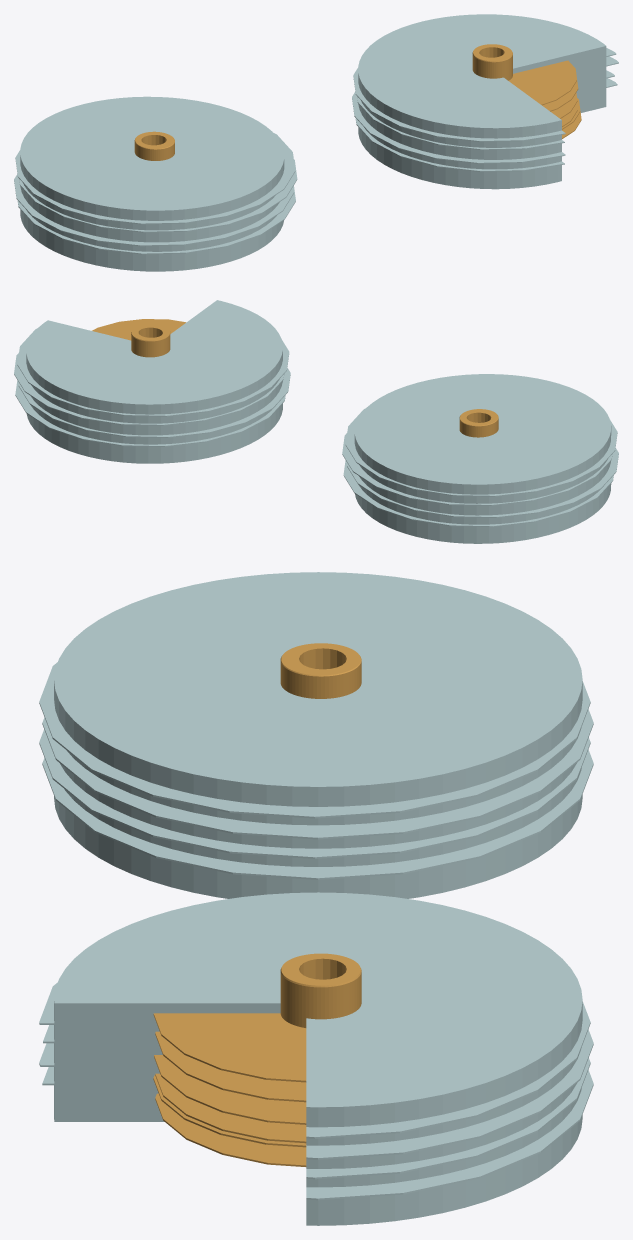
Rendered from (Fixed) Stator-Disk Neodymium-Rotor Electric Motor.glb.
3 renders of one model, top to bottom at view 1: azimuth 30°, elevation 25°; view 2: azimuth 150°, elevation 25°; view 3: azimuth 270°, elevation 25°, orthographic. The views are drawn at different scales.
Parts seen in each view (by area): view 1: Mesh_Mesh_head_geo.001_lambert2SG.001; view 2: Mesh_Mesh_head_geo.001_lambert2SG.001; view 3: Mesh_Mesh_head_geo.001_lambert2SG.001.
Boxes of the visible parts, x1,y1,x2,y2 form: Mesh_Mesh_head_geo.001_lambert2SG.001: [14, 14, 618, 271]; Mesh_Mesh_head_geo.001_lambert2SG.001: [14, 300, 618, 543]; Mesh_Mesh_head_geo.001_lambert2SG.001: [39, 572, 593, 1225].
Size of the model in its own units: 712 by 101 by 301.
